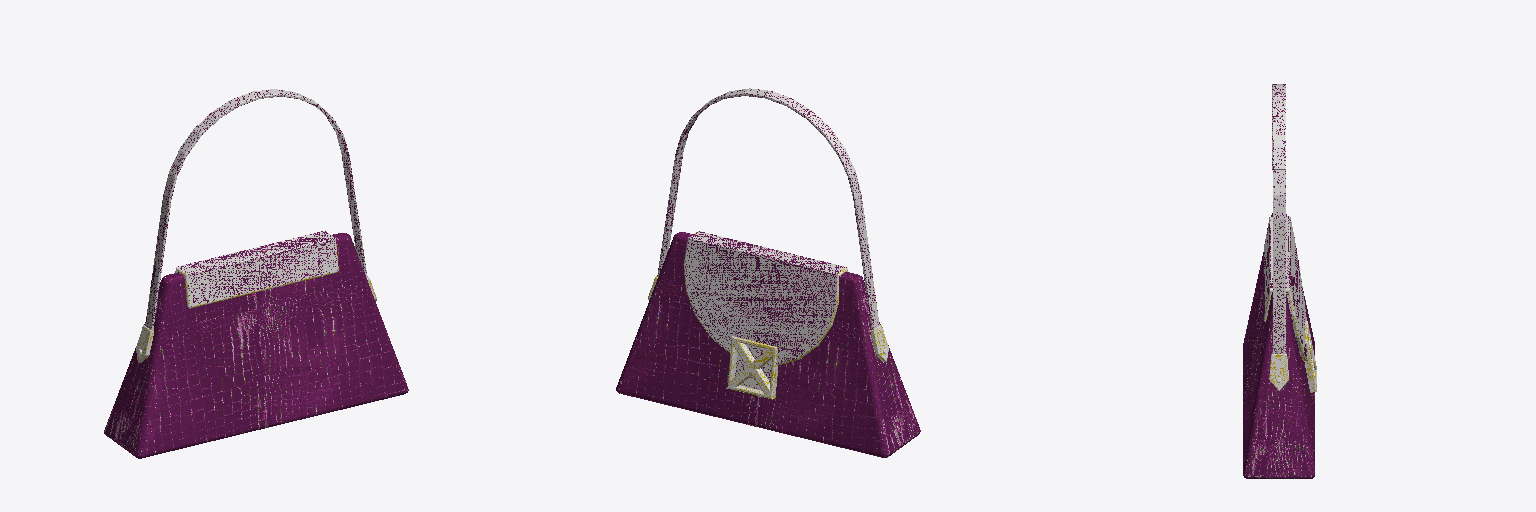
3 views of the same model, side by side, from view 1: azimuth 30°, elevation 25°; view 2: azimuth 150°, elevation 25°; view 3: azimuth 270°, elevation 25° (orthographic).
Visible parts, largest first — view 1: mesh1_mesh1-geometry; view 2: mesh1_mesh1-geometry; view 3: mesh1_mesh1-geometry.
Part boxes in pixels (x1,y1,x2,y2): mesh1_mesh1-geometry: (104, 89, 408, 458); mesh1_mesh1-geometry: (616, 88, 920, 457); mesh1_mesh1-geometry: (1243, 84, 1316, 478).
Bounding box in the file's own units: 0.6523 × 0.7423 × 0.1534.
Materials: 5 (1 with a texture image).